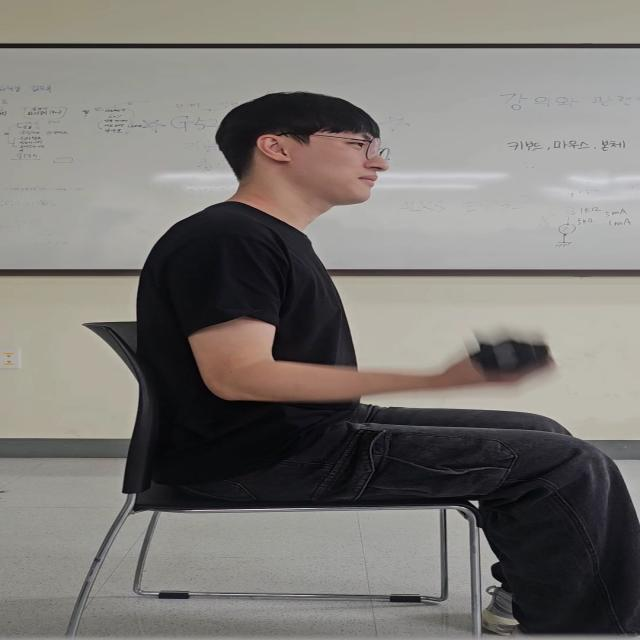curl: (166, 232, 561, 412)
